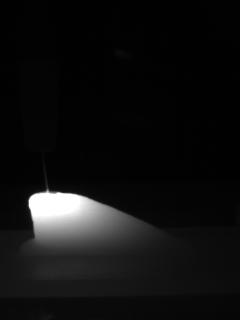tip_wire_left: (27, 146, 48, 192)
tip_wire_right: (47, 145, 55, 193)
